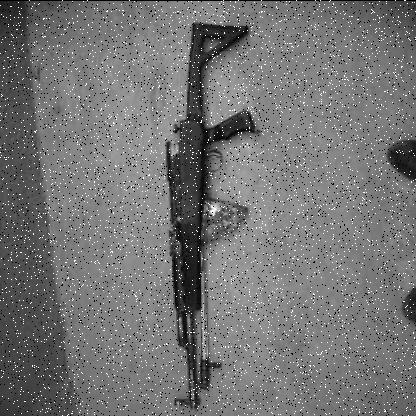rifle: (128, 10, 273, 411)
